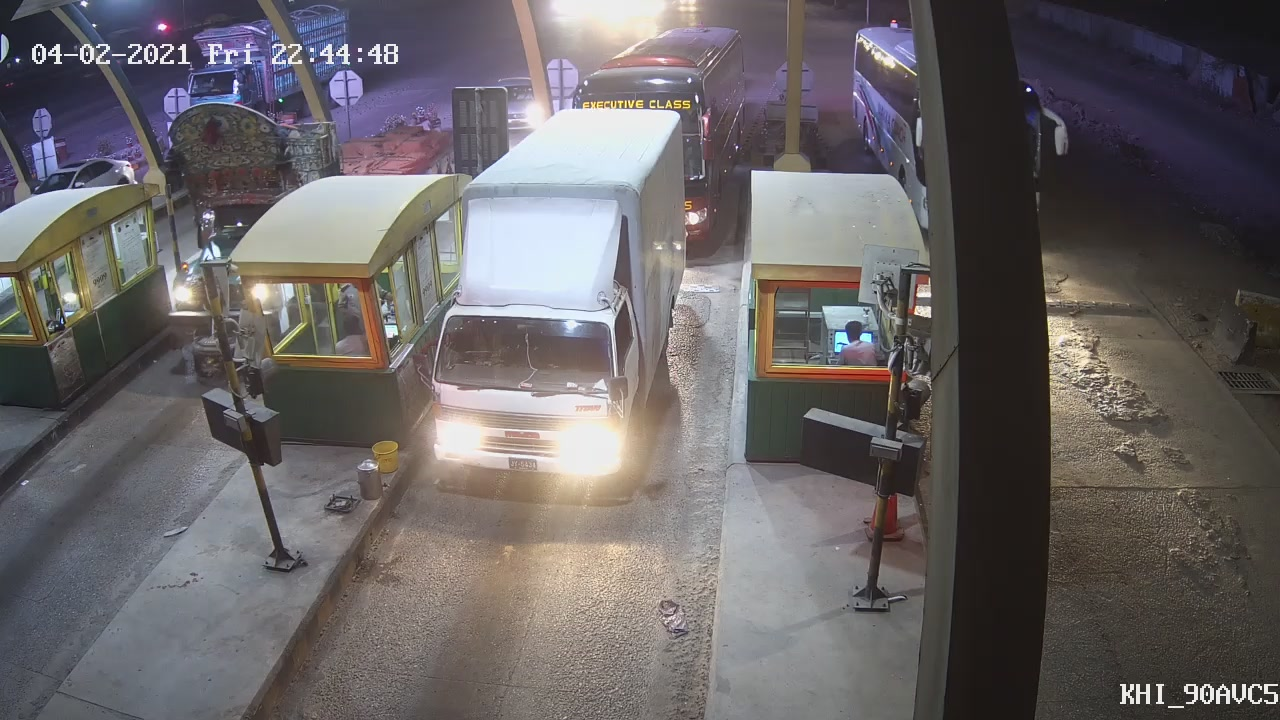F5: (422, 110, 690, 486)
